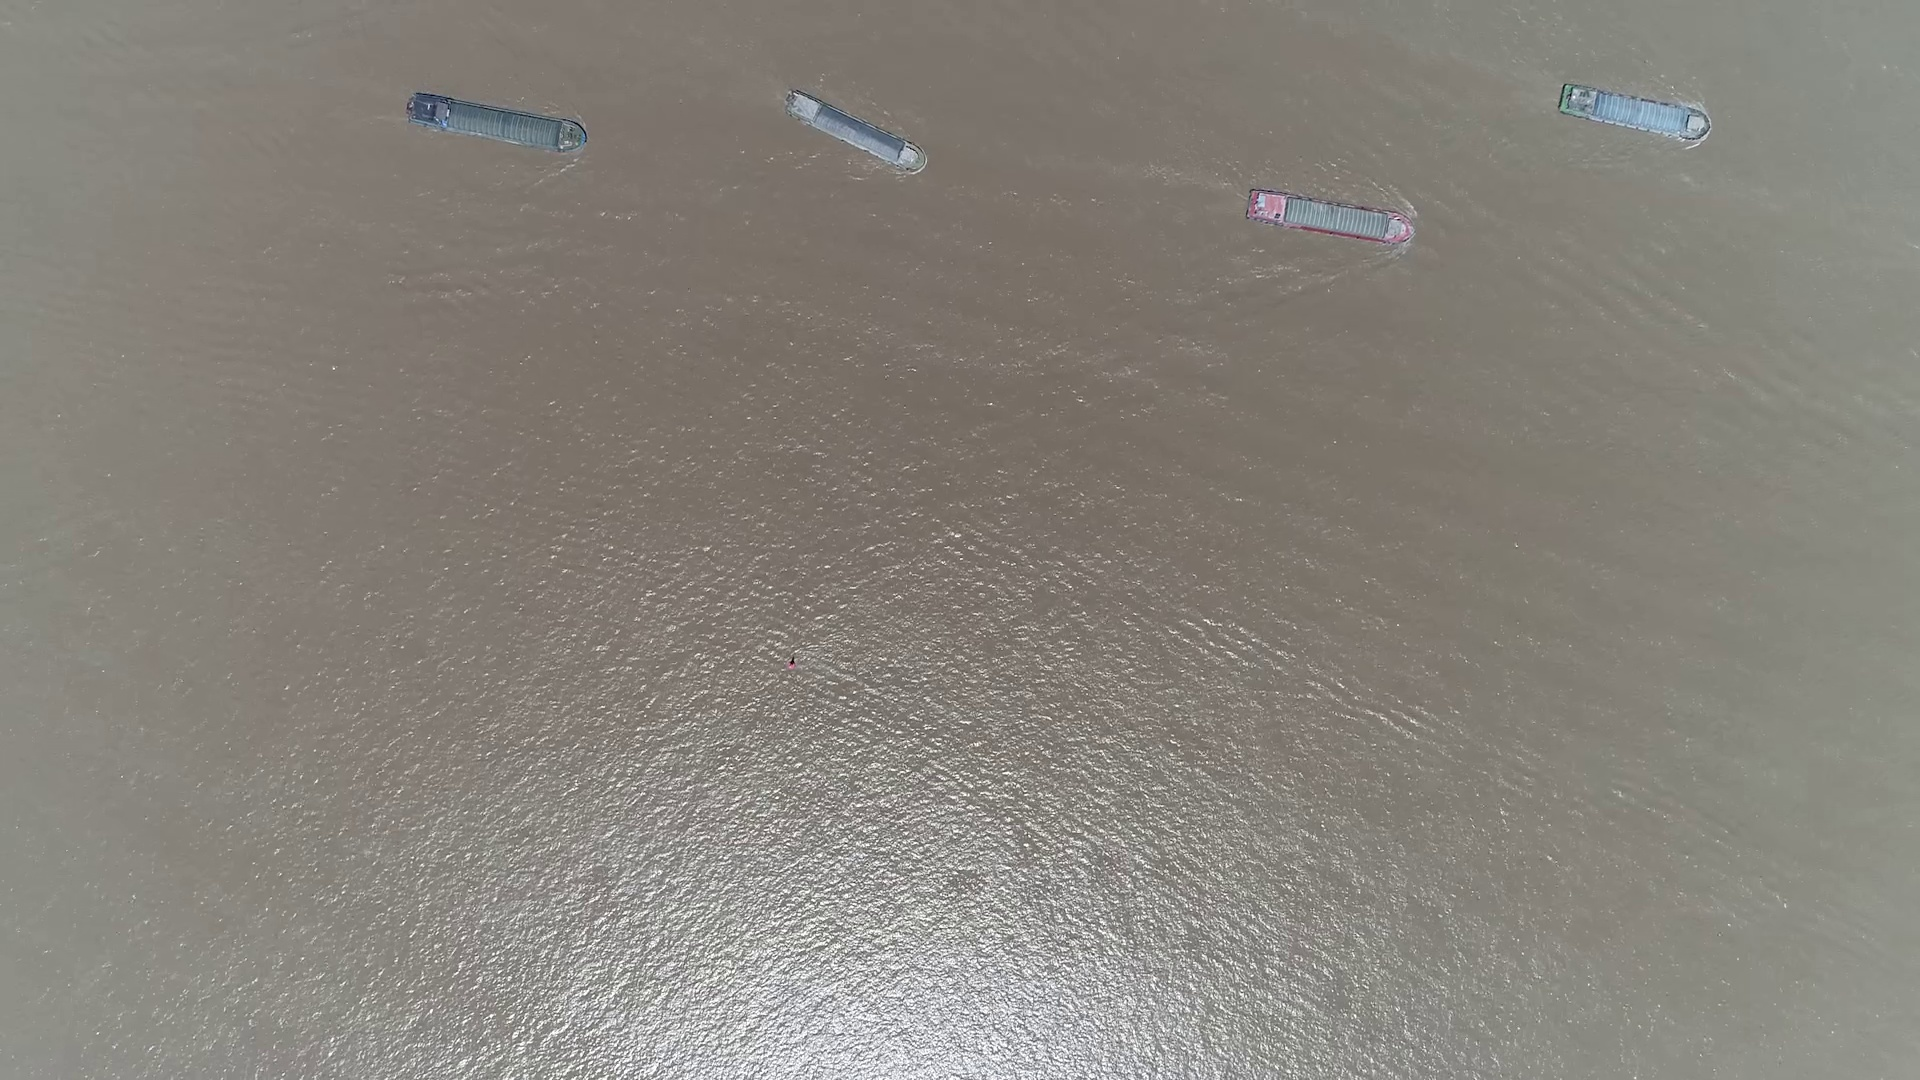ship: (783, 94, 924, 173), (406, 94, 587, 154), (1244, 190, 1414, 247), (1559, 87, 1709, 141)
